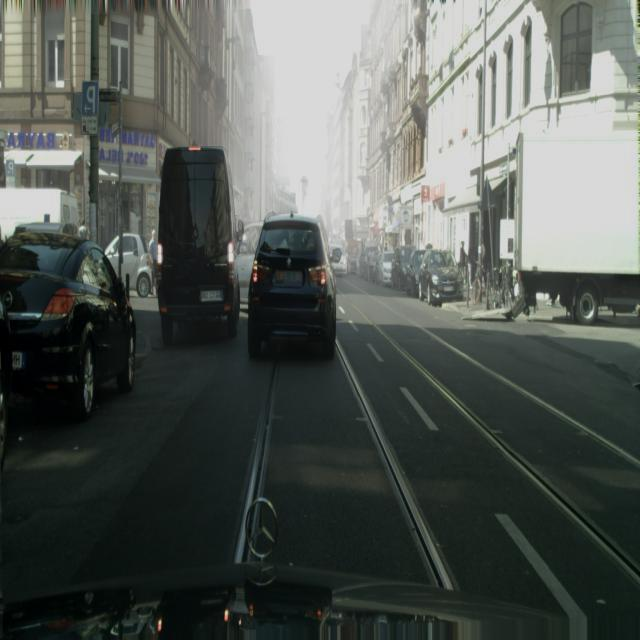motorcycle: (156, 144, 241, 347)
person: (148, 229, 158, 289)
rider: (512, 129, 639, 324), (0, 186, 82, 242)
truck: (0, 230, 137, 421), (156, 144, 241, 348), (247, 213, 338, 361), (104, 232, 153, 298), (234, 222, 264, 312), (419, 248, 464, 306), (390, 245, 414, 289), (405, 248, 426, 298), (358, 243, 378, 279), (375, 249, 394, 286), (329, 242, 349, 276), (372, 251, 388, 284), (365, 248, 378, 281)
